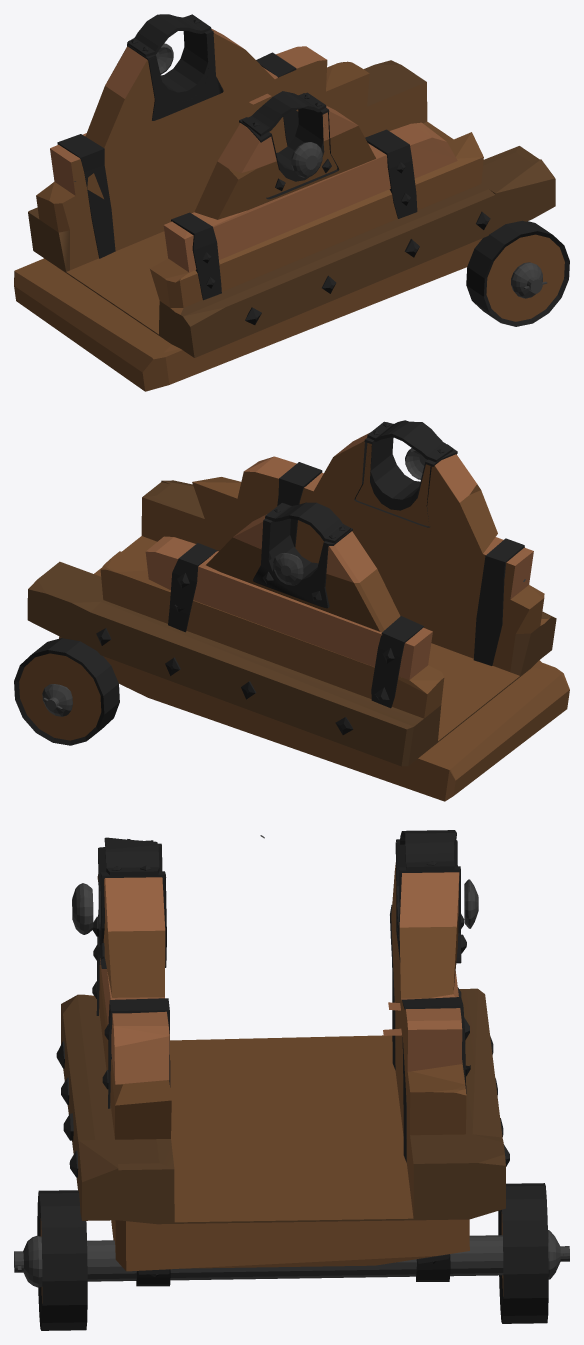
The model's file is cannon_stand.glb.
3 views of the same model, one above another, from view 1: azimuth 30°, elevation 25°; view 2: azimuth 150°, elevation 25°; view 3: azimuth 270°, elevation 25° (orthographic). The views are drawn at different scales.
Parts seen in each view (by area): view 1: cannon.795; view 2: cannon.795; view 3: cannon.795.
Boxes of the visible parts, box(x1,y1,x2,y2) form: cannon.795: box(14, 14, 569, 391); cannon.795: box(14, 420, 569, 801); cannon.795: box(14, 830, 569, 1330).
Size of what is drawn, in the model's own units: 1 by 0.5822 by 0.848.
